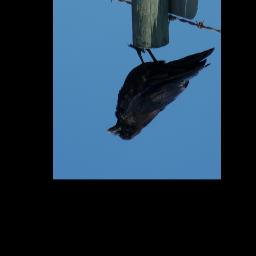Crow: (105, 43, 216, 142)
